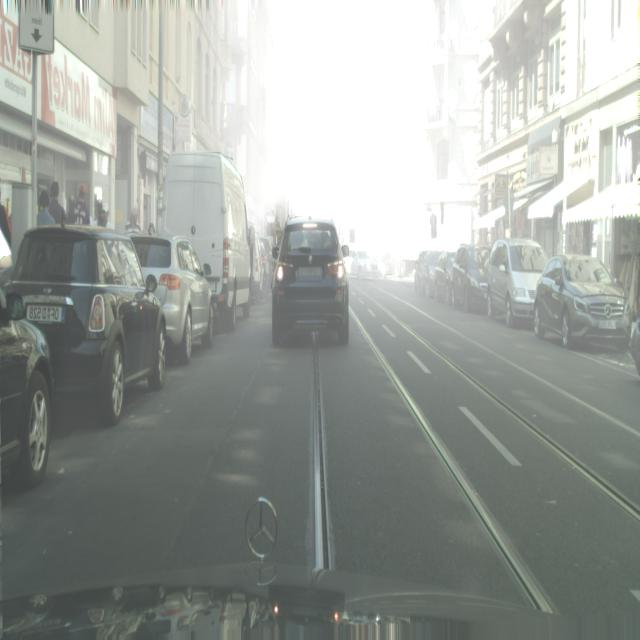motorcycle: (162, 149, 252, 332)
person: (48, 181, 66, 226), (37, 189, 55, 227), (76, 182, 90, 226), (126, 203, 142, 234)
truck: (4, 223, 167, 426), (128, 232, 214, 364), (0, 287, 56, 489), (271, 215, 349, 347), (533, 254, 630, 351), (486, 237, 549, 328), (451, 241, 492, 313), (248, 225, 265, 304), (434, 251, 455, 302), (350, 249, 380, 281), (422, 250, 441, 297), (413, 250, 431, 293), (629, 316, 640, 376), (259, 237, 271, 292)
